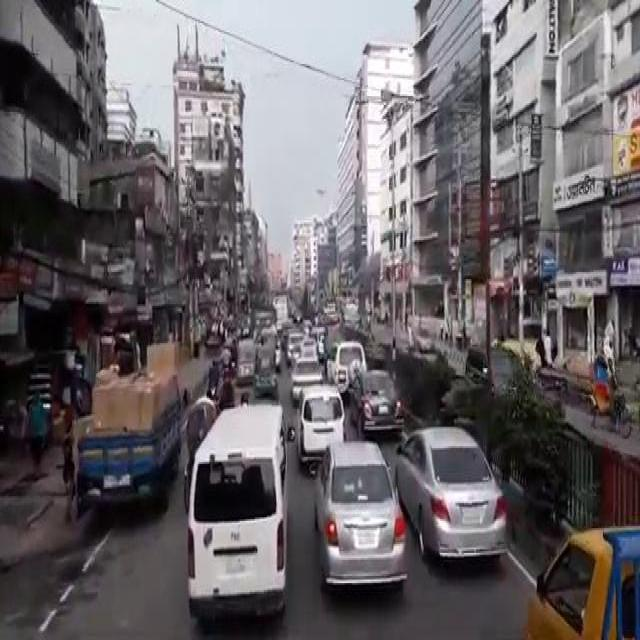16-Wheelers: (70, 338, 183, 516)
Car: (394, 423, 509, 564), (312, 437, 408, 594), (525, 523, 639, 638)
MiniBus: (183, 398, 288, 620)
